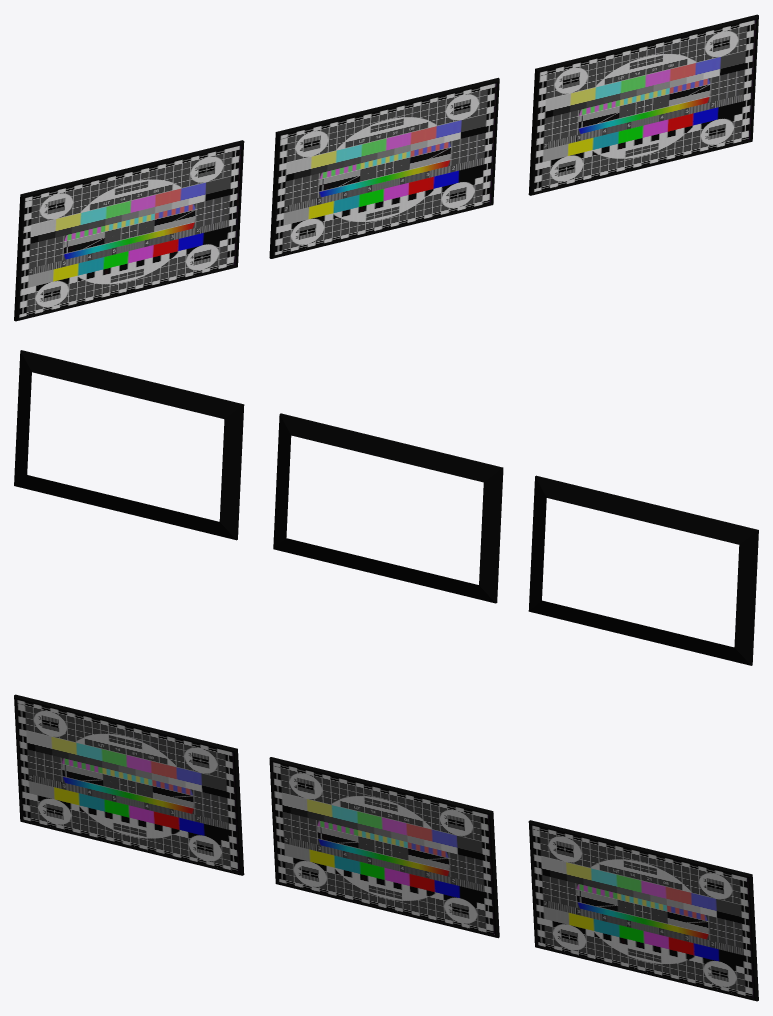
File: TV_panels.glb
3 views of the same model, one above another, from view 1: azimuth 30°, elevation 25°; view 2: azimuth 150°, elevation 25°; view 3: azimuth 330°, elevation 25° (orthographic).
Visible parts, largest first — view 1: Display_TV (×3), Korpus (×3); view 2: Korpus (×3); view 3: Display_TV (×3), Korpus (×3).
Boxes of the visible parts, x1,y1,x2,y2 form: Display_TV (×3): [19, 20, 756, 317]; Korpus (×3): [14, 14, 758, 321]; Korpus (×3): [14, 350, 758, 665]; Display_TV (×3): [16, 700, 753, 997]; Korpus (×3): [14, 694, 758, 1001].
Bounding box in the file's own units: 6.21 × 1.05 × 0.1513.
2 materials, 1 textured.
